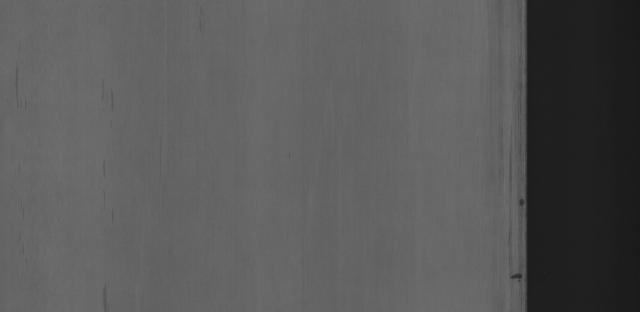oil_spot: (512, 191, 526, 213), (513, 263, 526, 285)
